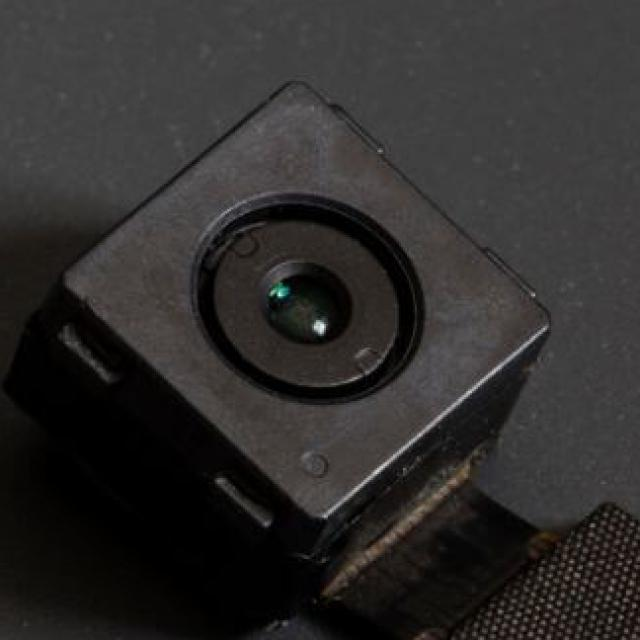hidden camera: (100, 148, 518, 473)
